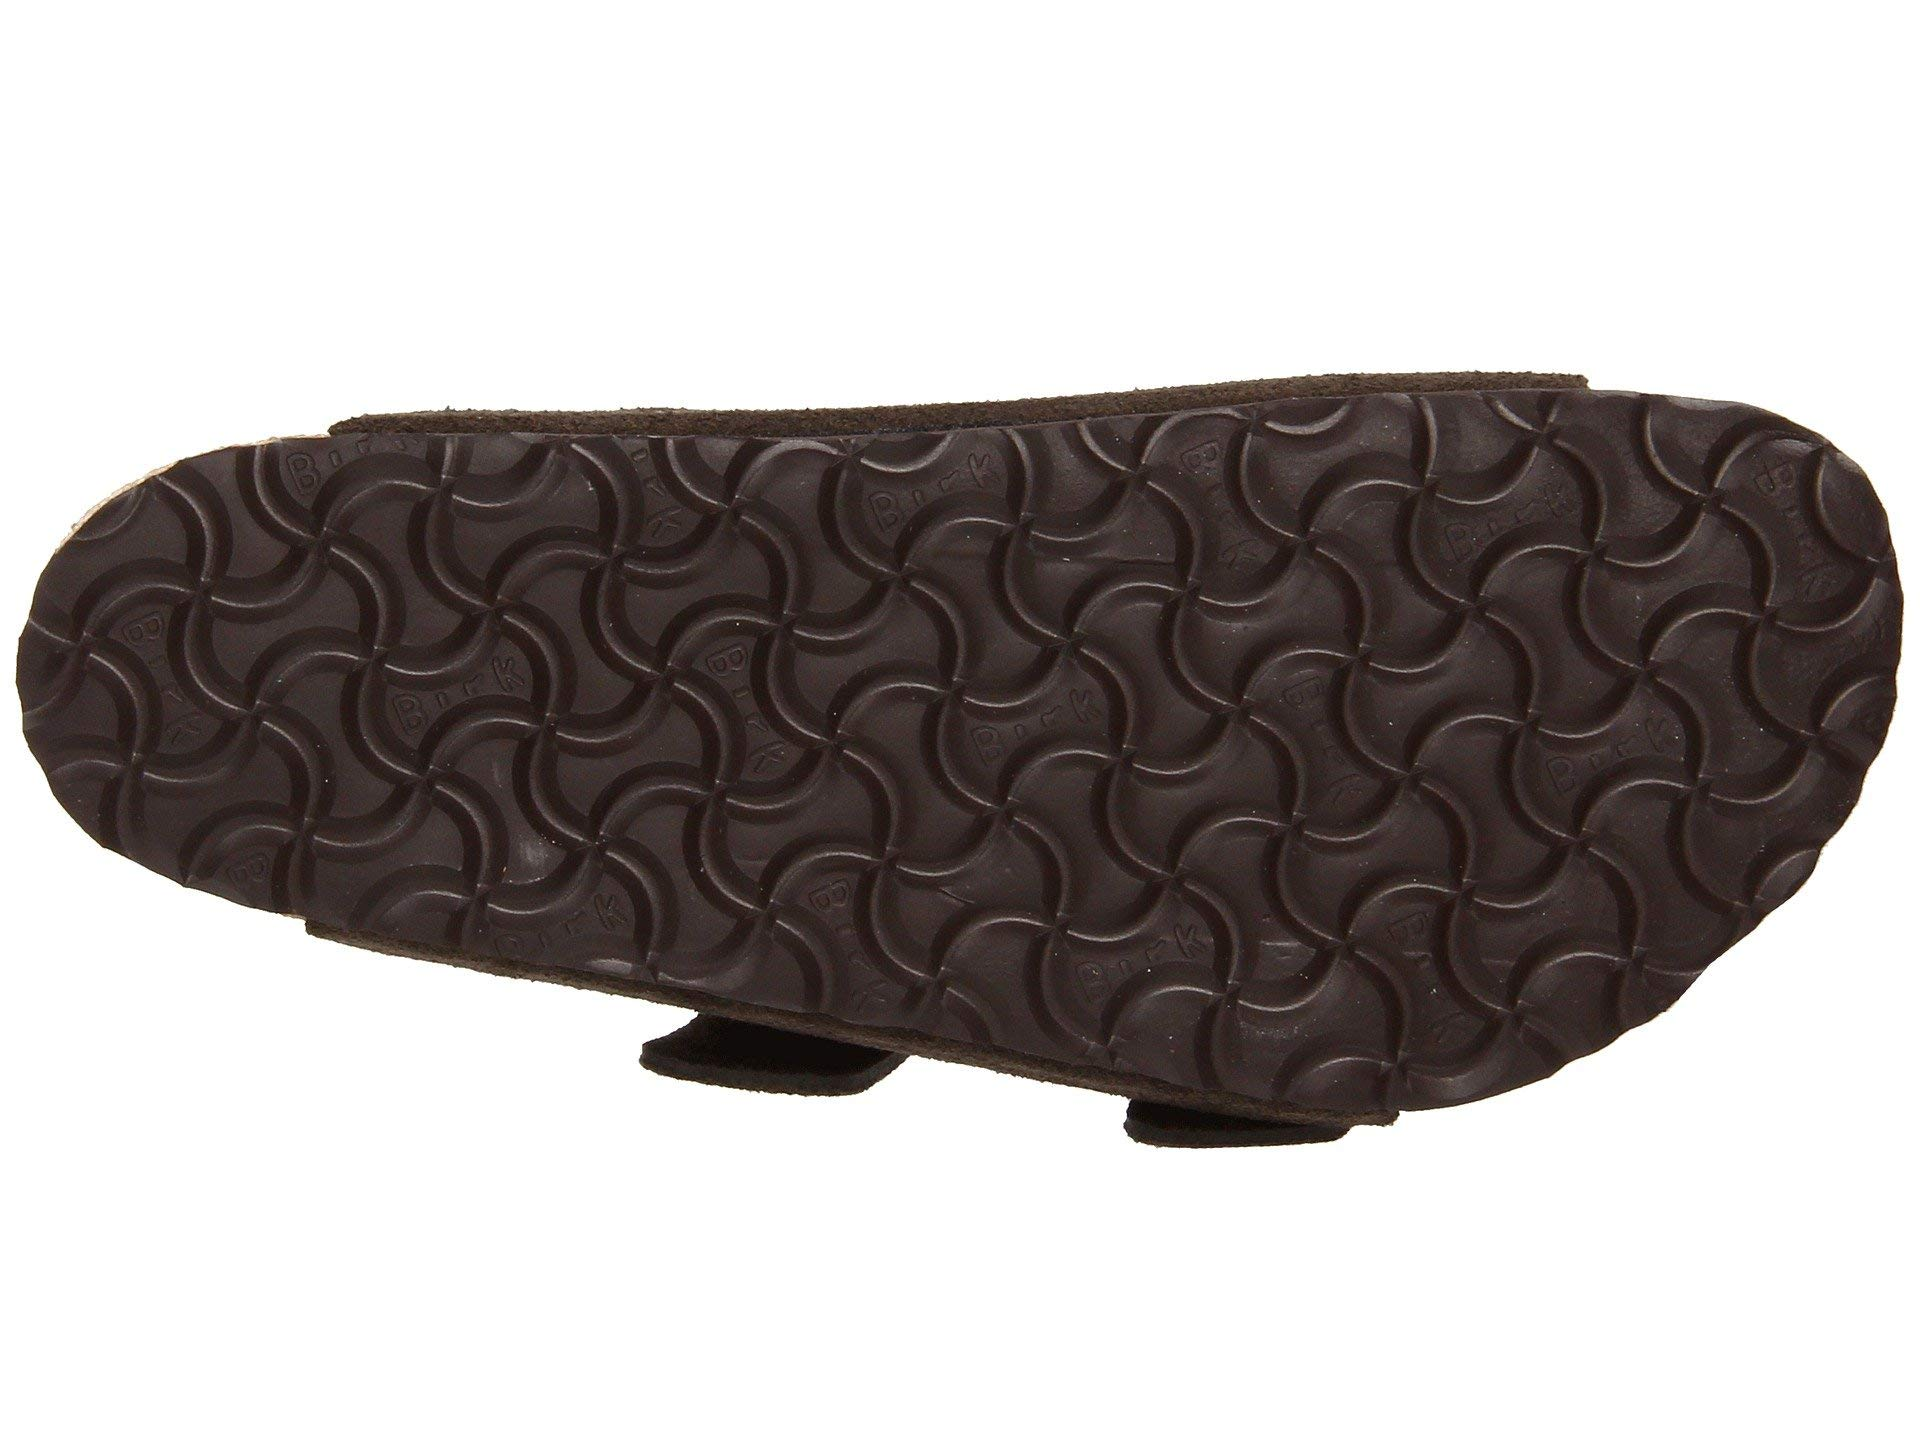bowtie: (1025, 451, 1547, 1010), (440, 507, 922, 948)
text: (1025, 451, 1547, 1010), (440, 507, 922, 948)
